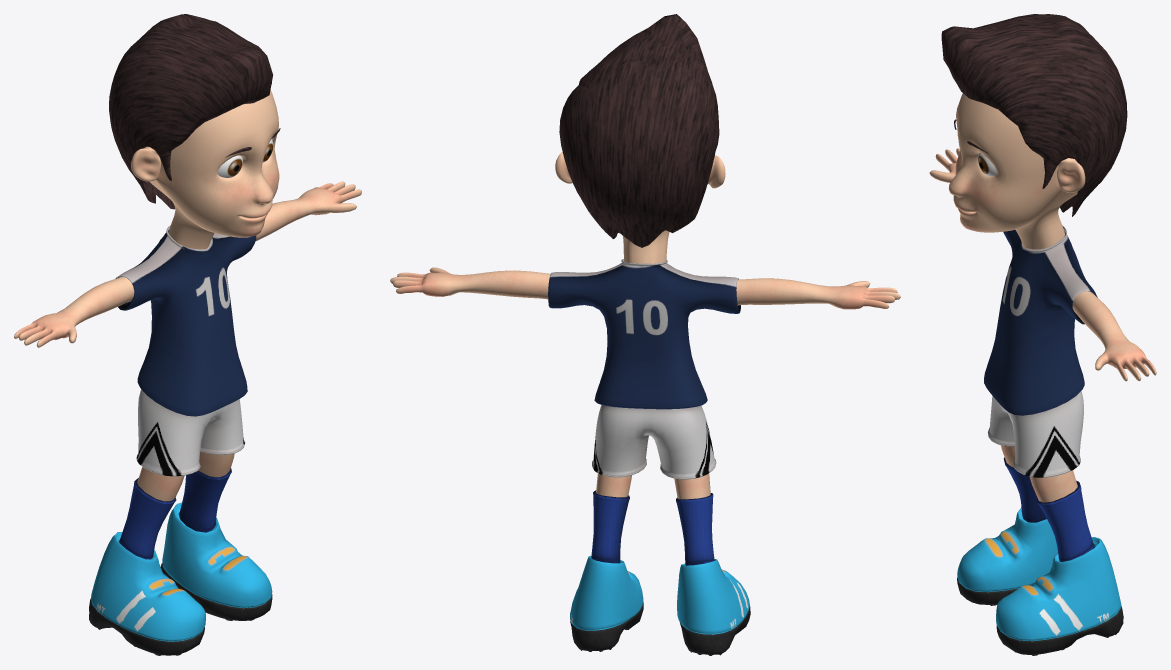
Rendered from football_player_france.obj.
3 views of the same model, side by side, from view 1: azimuth 30°, elevation 25°; view 2: azimuth 150°, elevation 25°; view 3: azimuth 270°, elevation 25° (orthographic). The views are drawn at different scales.
Parts seen in each view (by area): view 1: low16994:Group17395_Material.003_0; view 2: low16994:Group17395_Material.003_0; view 3: low16994:Group17395_Material.003_0.
Part boxes in pixels (left/top/right/bottom): low16994:Group17395_Material.003_0: left=14, top=14, right=361, bottom=655; low16994:Group17395_Material.003_0: left=390, top=14, right=900, bottom=655; low16994:Group17395_Material.003_0: left=929, top=14, right=1156, bottom=655.
Bounding box in the file's own units: 1.28 × 1.72 × 0.5846.
Materials: 1 (1 with a texture image).
